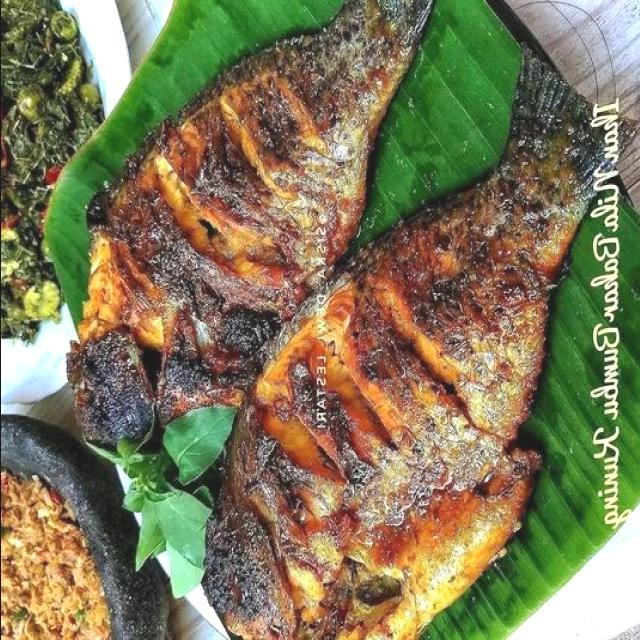ikan bakar: (201, 7, 621, 640), (68, 0, 444, 454)
